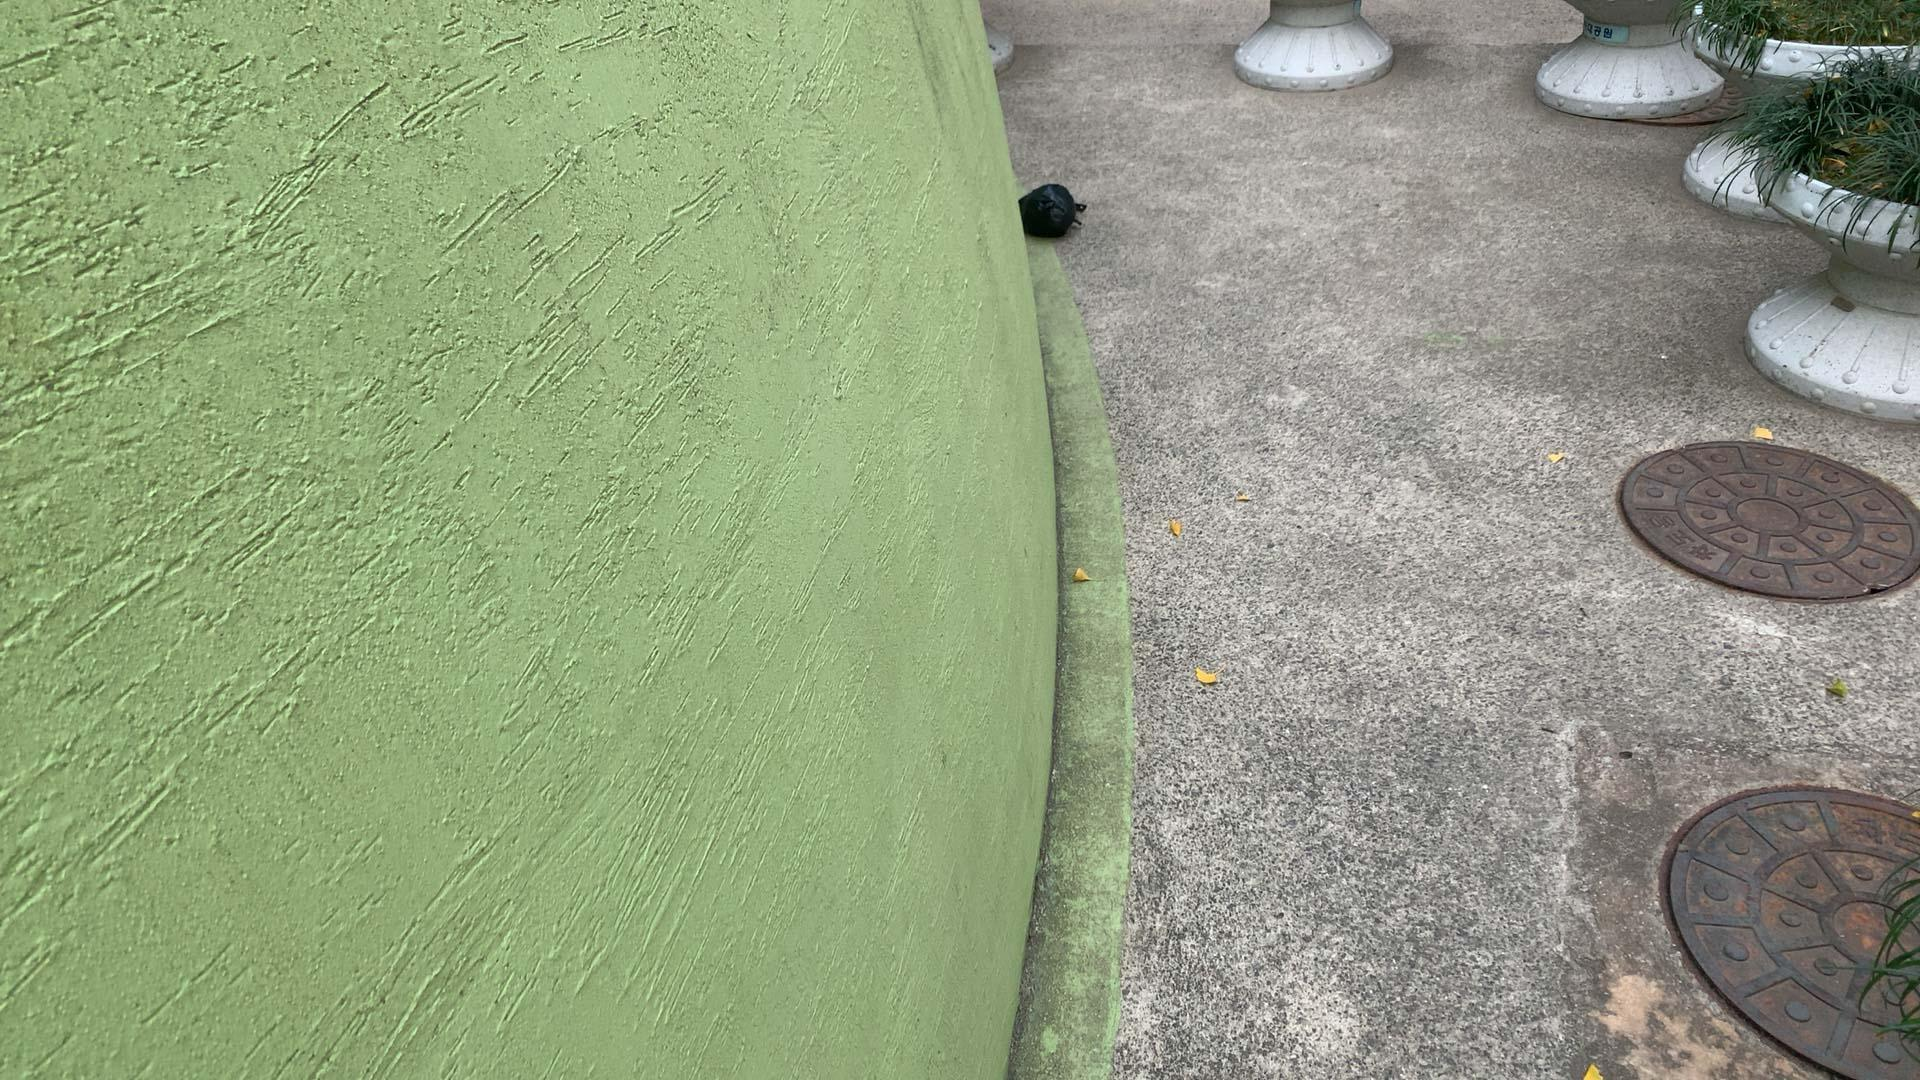black_bag: (1007, 179, 1091, 243)
